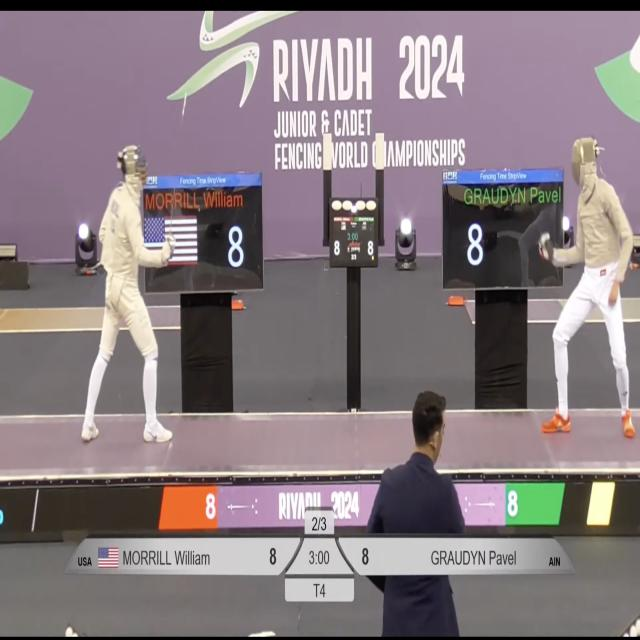fencer: (533, 134, 637, 446), (79, 137, 175, 450)
overlayLeft: (65, 535, 251, 576)
overlayRight: (377, 539, 575, 574)
scoreLeft: (253, 536, 303, 578)
scoreRight: (335, 540, 377, 573)
